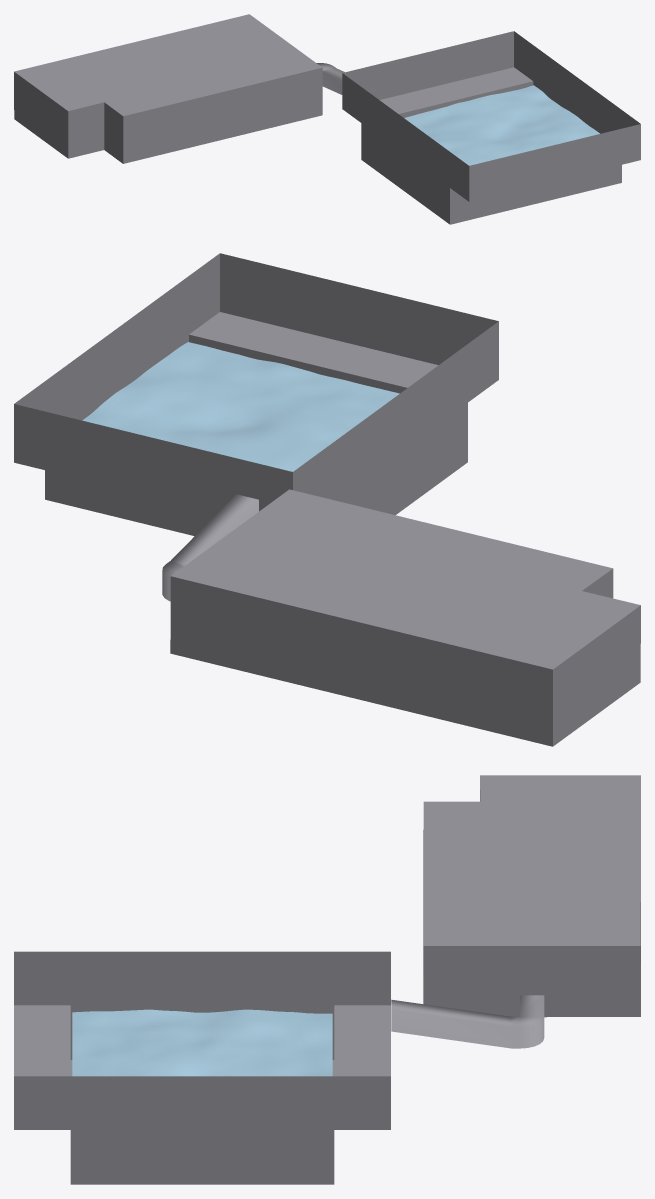
Rendered from level1_graybox_test.glb.
3 views of the same model, one above another, from view 1: azimuth 30°, elevation 25°; view 2: azimuth 150°, elevation 25°; view 3: azimuth 270°, elevation 25° (orthographic). The views are drawn at different scales.
Visible parts, largest first — view 1: Plane.002, Plane.008, Plane.001, Plane.012, Cube.008; view 2: Plane.002, Plane.008, Plane.001, Plane.012, Cube.008; view 3: Plane.002, Plane.008, Plane.012, Plane.001, Cube.008.
Boxes of the visible parts, <box> form: Plane.002: <box>342,31,640,224</box>; Plane.008: <box>15,14,321,116</box>; Plane.001: <box>14,14,322,163</box>; Plane.012: <box>404,85,599,165</box>; Cube.008: <box>316,63,376,97</box>; Plane.002: <box>14,253,498,535</box>; Plane.008: <box>171,490,639,669</box>; Plane.001: <box>170,489,640,746</box>; Plane.012: <box>82,342,399,471</box>; Cube.008: <box>162,494,258,601</box>; Plane.002: <box>14,951,390,1184</box>; Plane.008: <box>423,775,640,945</box>; Plane.012: <box>72,1009,332,1076</box>; Plane.001: <box>423,775,640,1017</box>; Cube.008: <box>391,995,544,1048</box>.
Size of what is drawn, in the model's own units: 99.06 by 16.59 by 87.01.
